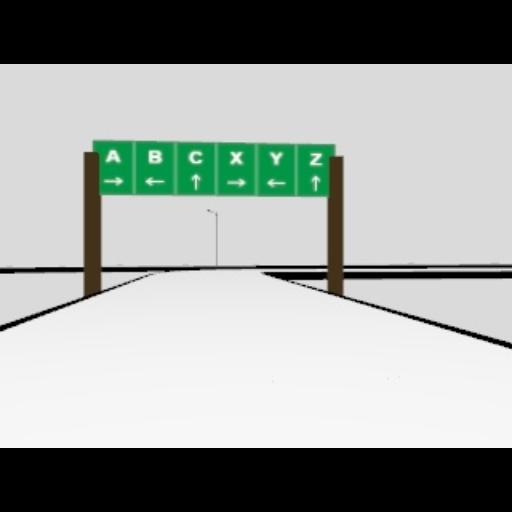A: (104, 147, 120, 161)
B: (147, 149, 161, 163)
C: (187, 149, 203, 163)
Left: (144, 176, 164, 186), (266, 177, 286, 187)
Right: (103, 176, 125, 186), (226, 178, 246, 186)
Straight: (190, 173, 200, 189), (310, 174, 320, 190)
X: (229, 151, 243, 165)
Y: (269, 151, 283, 165)
Z: (308, 152, 322, 164)
